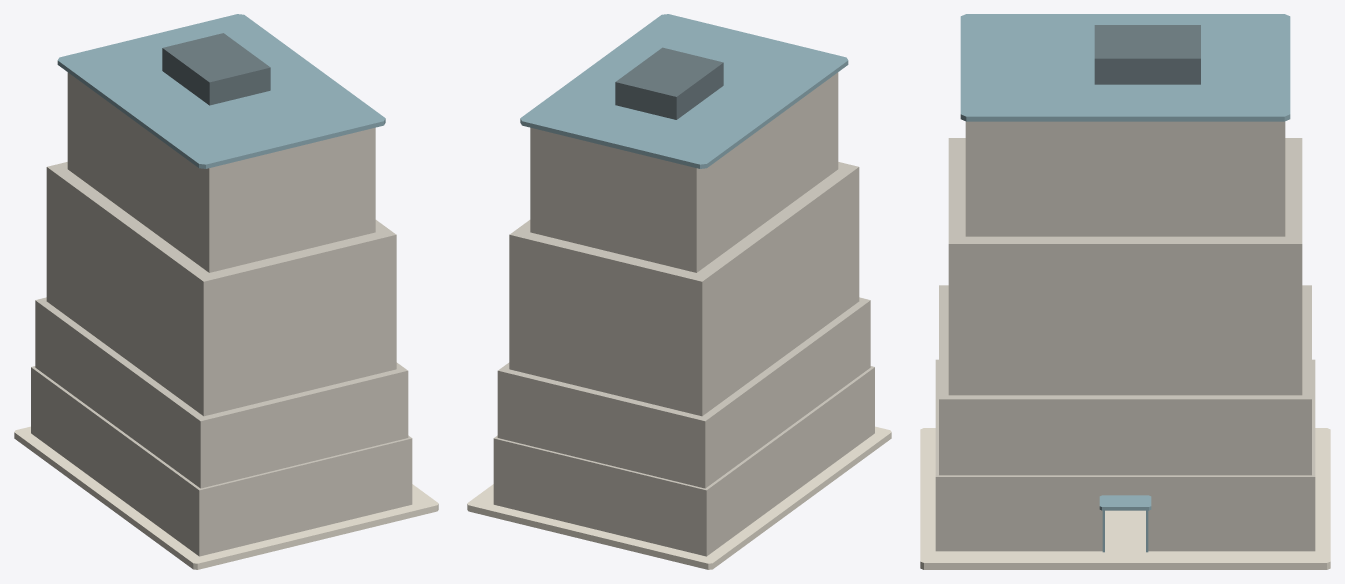
File: Colony_MidRise_Res_C_v4_ShadowProxy.glb
3 views of the same model, side by side, from view 1: azimuth 30°, elevation 25°; view 2: azimuth 150°, elevation 25°; view 3: azimuth 270°, elevation 25° (orthographic). The views are drawn at different scales.
Visible parts, largest first — view 1: Colony_MidRise_Res_C_v4_ShadowProxy / Structure, Colony_MidRise_Res_C_v4_ShadowProxy / Roof, Colony_MidRise_Res_C_v4_ShadowProxy / Foundation; view 2: Colony_MidRise_Res_C_v4_ShadowProxy / Structure, Colony_MidRise_Res_C_v4_ShadowProxy / Roof, Colony_MidRise_Res_C_v4_ShadowProxy / Foundation; view 3: Colony_MidRise_Res_C_v4_ShadowProxy / Structure, Colony_MidRise_Res_C_v4_ShadowProxy / Roof, Colony_MidRise_Res_C_v4_ShadowProxy / Foundation, Colony_MidRise_Res_C_v4_ShadowProxy / Entrance modules.
Part boxes in pixels (<box>): Colony_MidRise_Res_C_v4_ShadowProxy / Structure: <box>31,72,412,556</box>; Colony_MidRise_Res_C_v4_ShadowProxy / Roof: <box>57,14,385,168</box>; Colony_MidRise_Res_C_v4_ShadowProxy / Foundation: <box>14,426,438,569</box>; Colony_MidRise_Res_C_v4_ShadowProxy / Structure: <box>493,72,874,556</box>; Colony_MidRise_Res_C_v4_ShadowProxy / Roof: <box>520,14,848,168</box>; Colony_MidRise_Res_C_v4_ShadowProxy / Foundation: <box>467,426,891,569</box>; Colony_MidRise_Res_C_v4_ShadowProxy / Structure: <box>935,121,1315,551</box>; Colony_MidRise_Res_C_v4_ShadowProxy / Roof: <box>960,14,1290,121</box>; Colony_MidRise_Res_C_v4_ShadowProxy / Foundation: <box>920,428,1330,569</box>; Colony_MidRise_Res_C_v4_ShadowProxy / Entrance modules: <box>1099,495,1151,552</box>.
Bounding box in the file's own units: 14 × 22.28 × 18.
